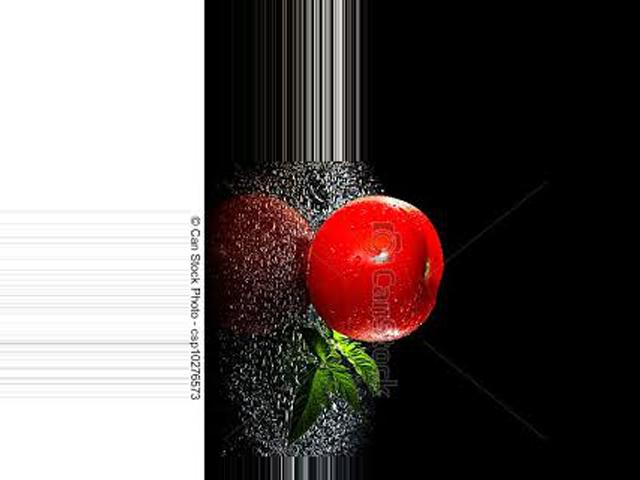tomato: (306, 196, 443, 341)
